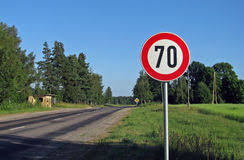Speed_limit_70km: (140, 33, 191, 82)
